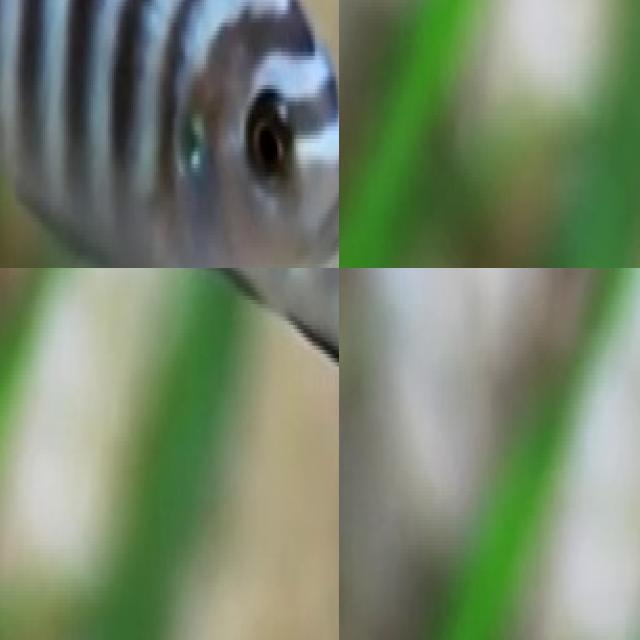fish: (0, 0, 339, 268), (0, 268, 339, 491)
